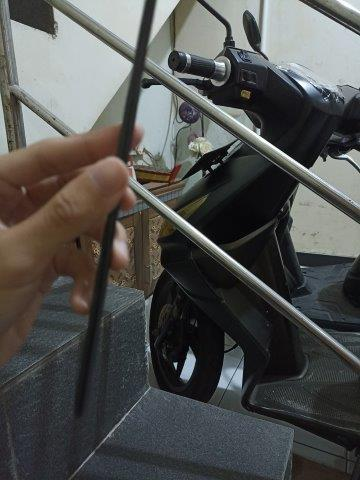sedotan: (74, 3, 154, 408)
